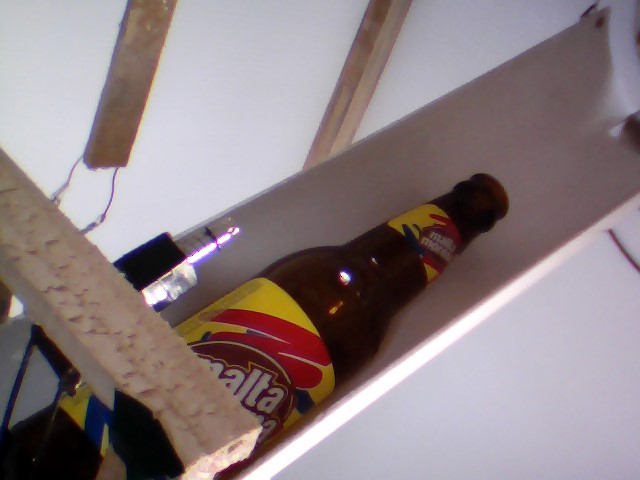vidrio: (191, 160, 523, 442)
